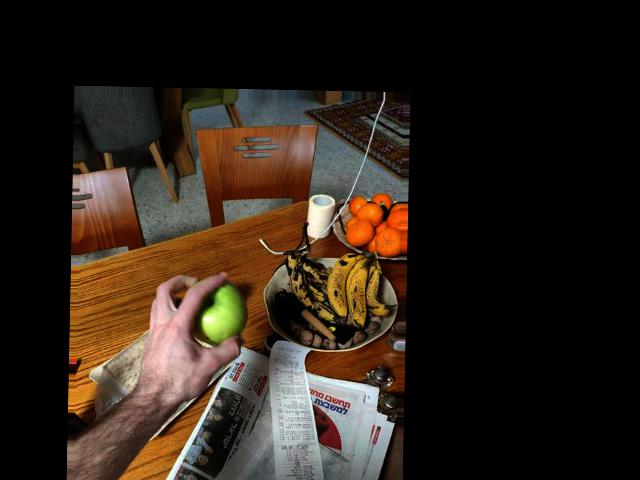apple: (179, 270, 245, 358)
